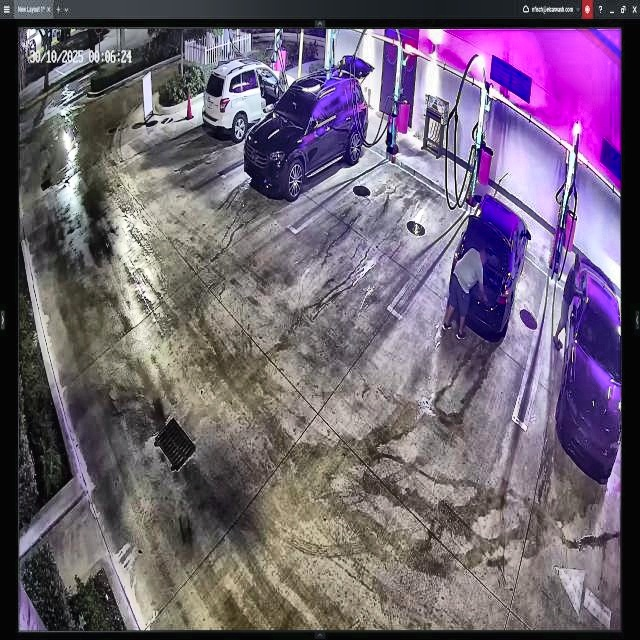Car: (243, 54, 374, 196), (451, 191, 531, 339)
